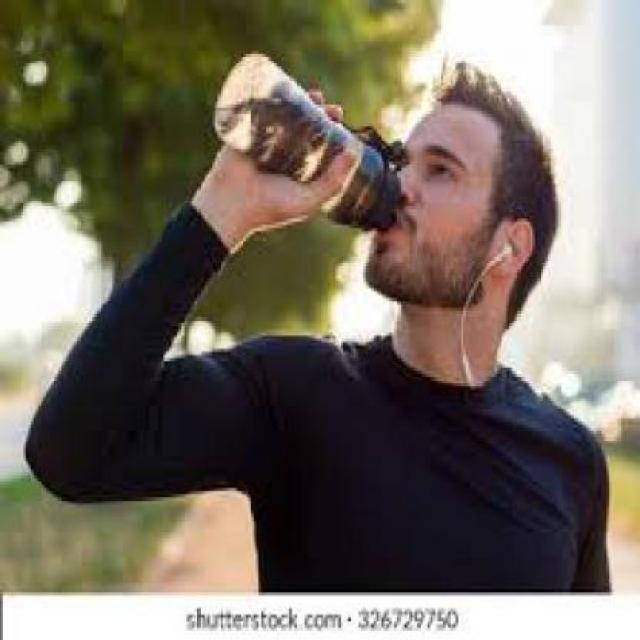Drinking: (236, 63, 424, 260)
